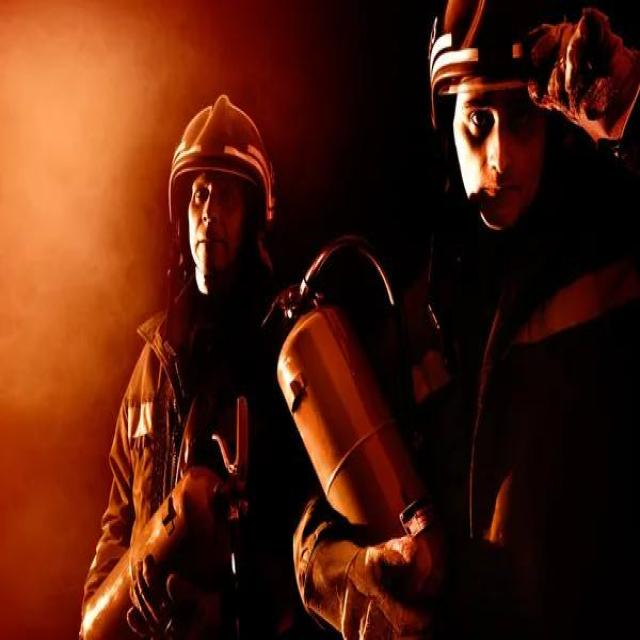fire_extinguisher: (252, 227, 488, 638), (70, 386, 263, 638)
